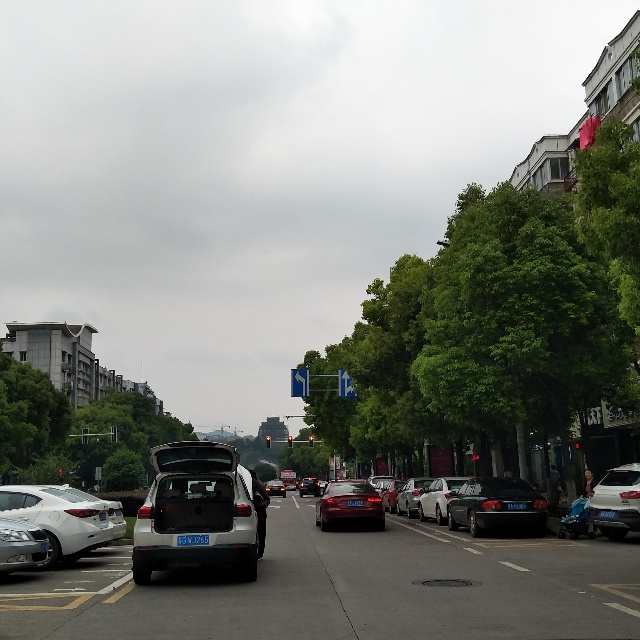left: (291, 369, 309, 397)
